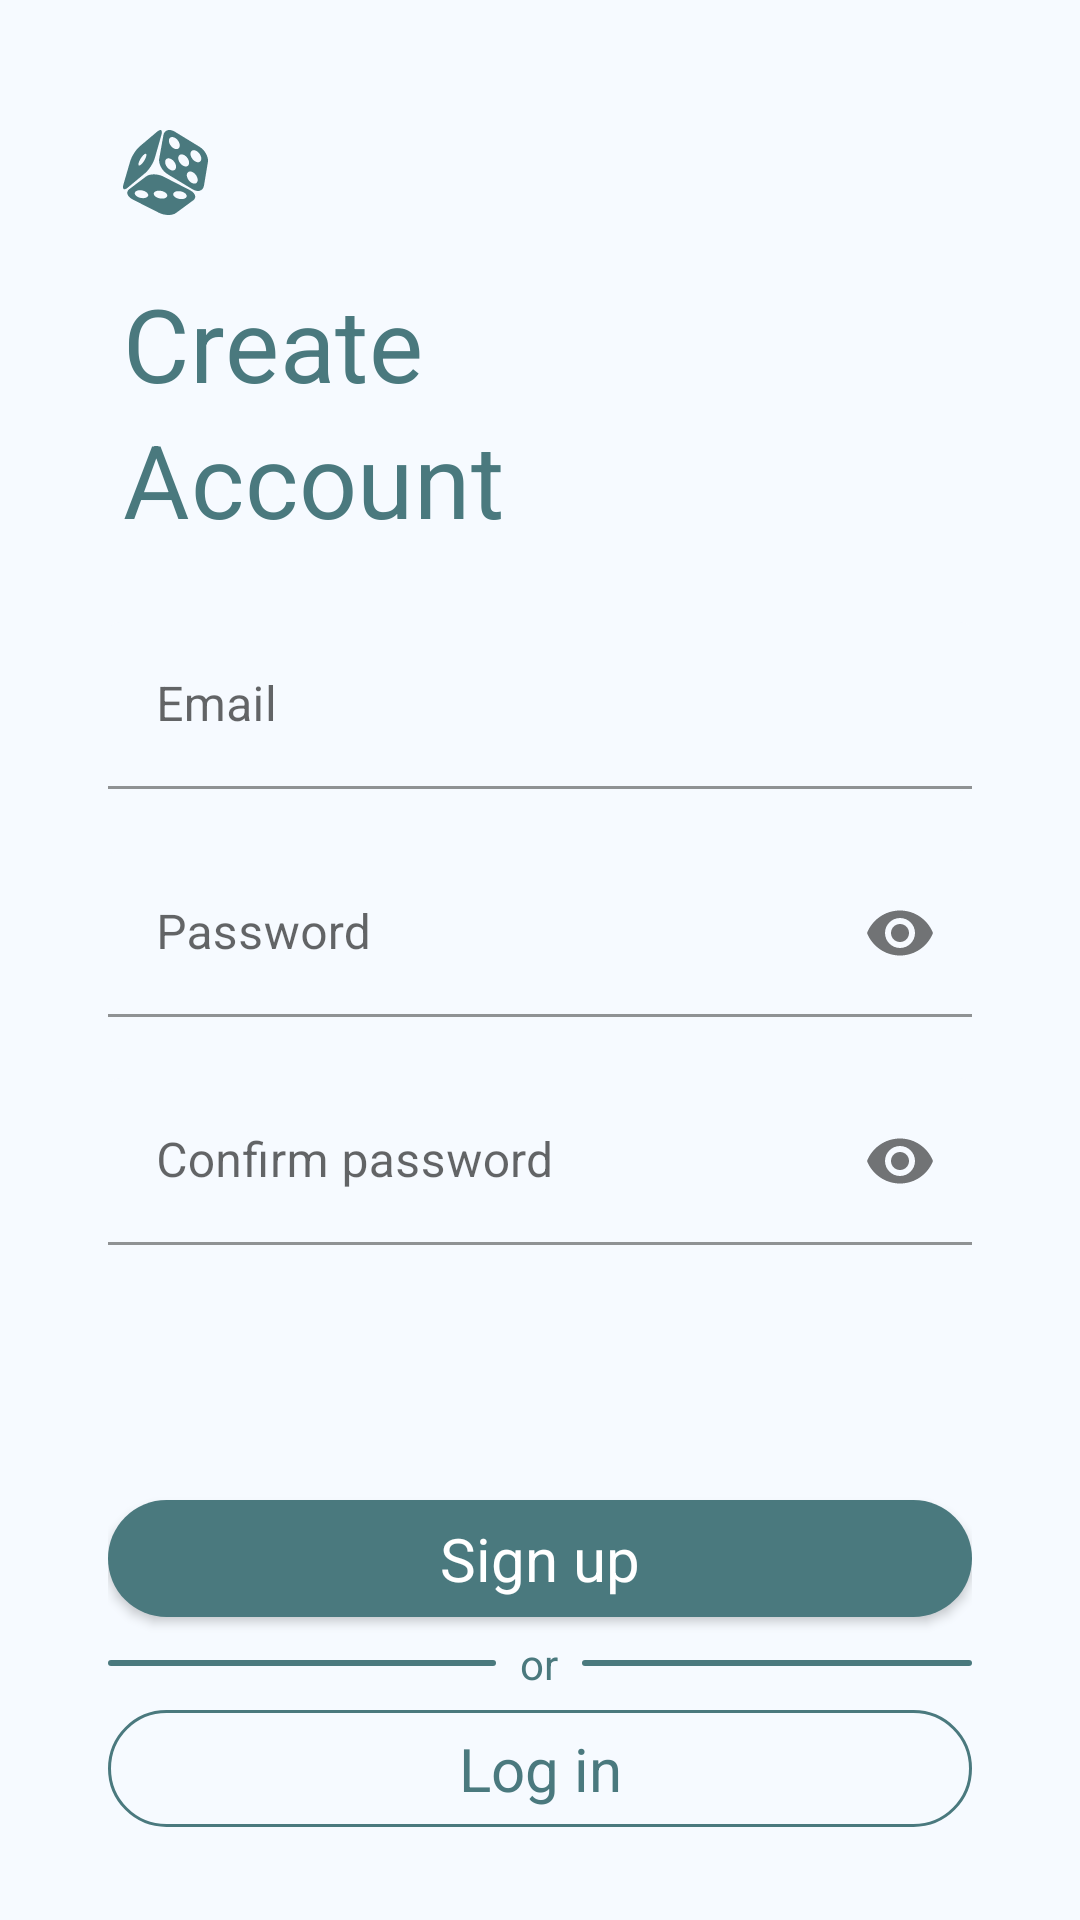

Point at icon controls on the screen. Image size 1080 × 1920, points as (x,y).
dice: (165,172)
